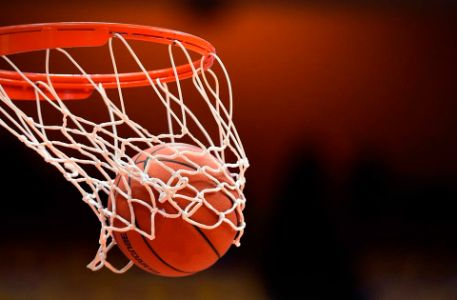baloncesto: (107, 143, 242, 278)
